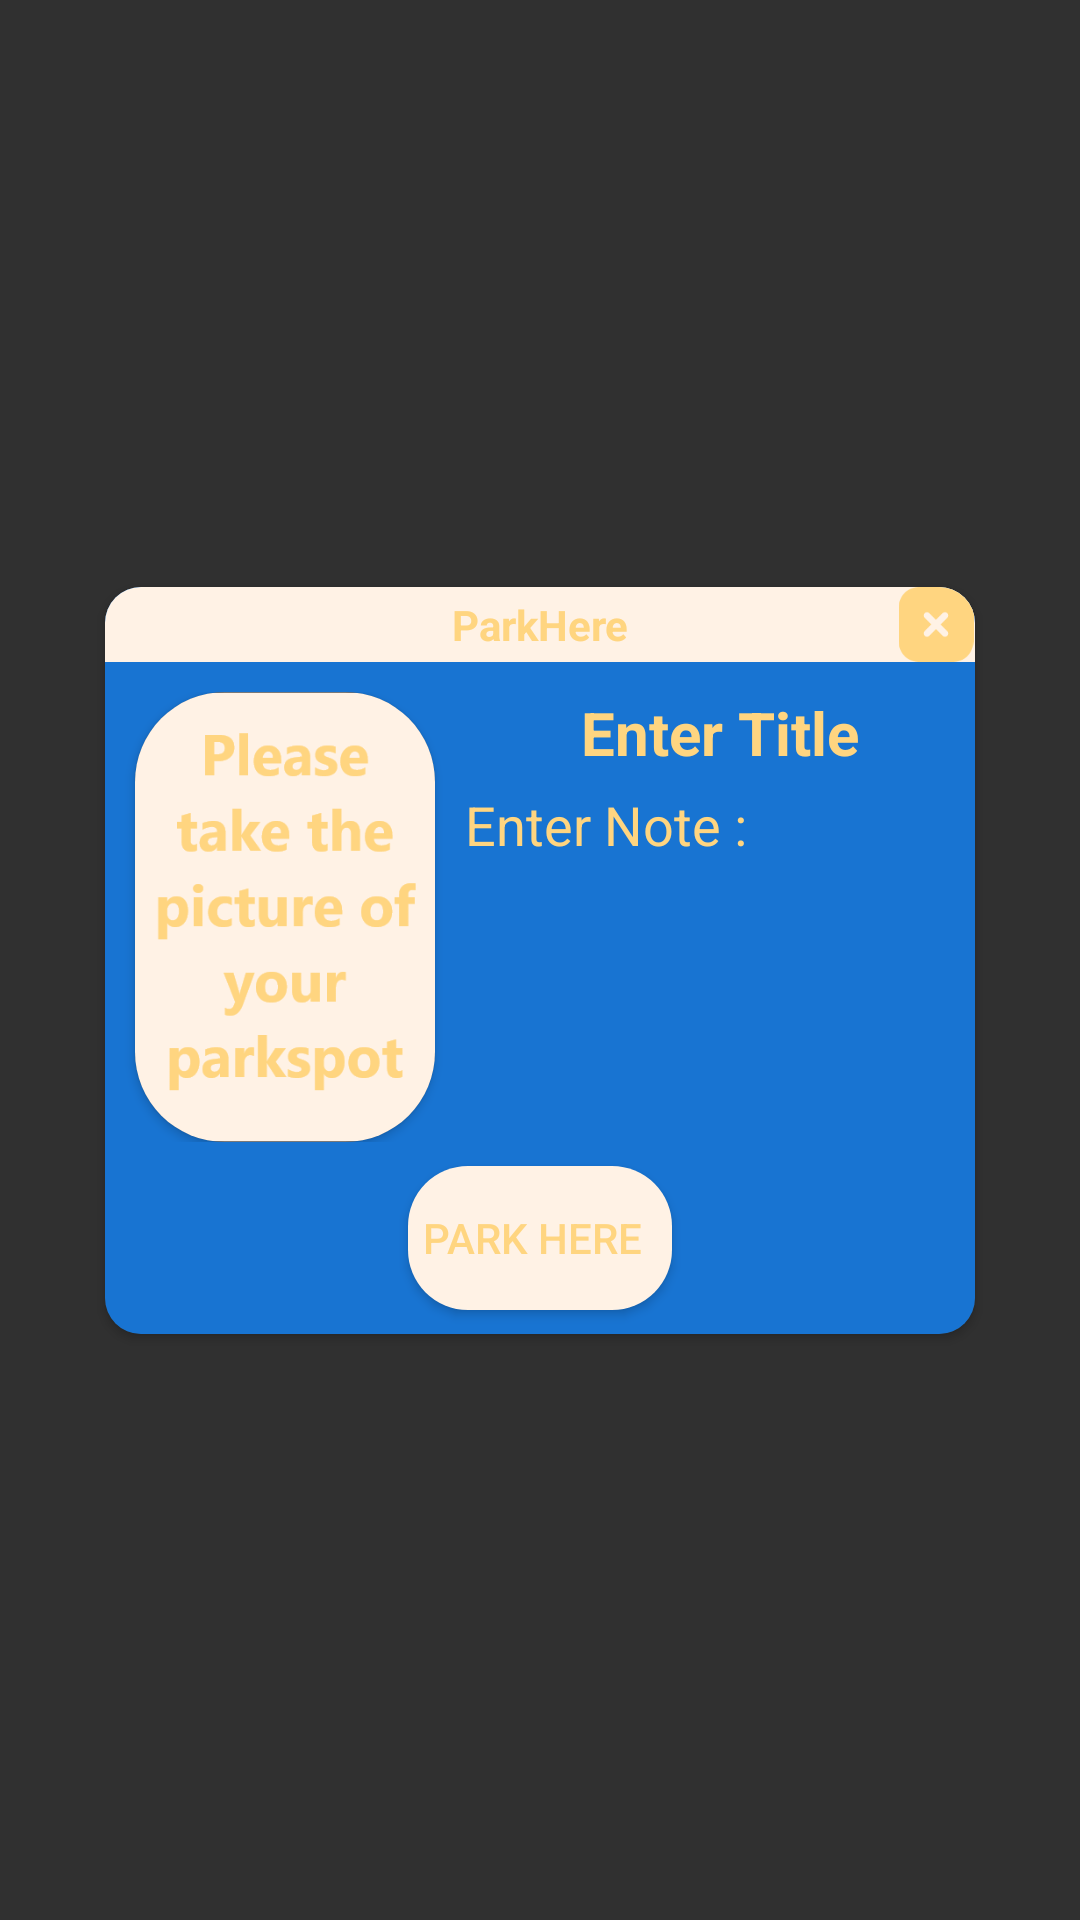

Icon click points for this 1080px×1920px phone screenshot, format (x=x, y=y):
close: (x=936, y=624)
